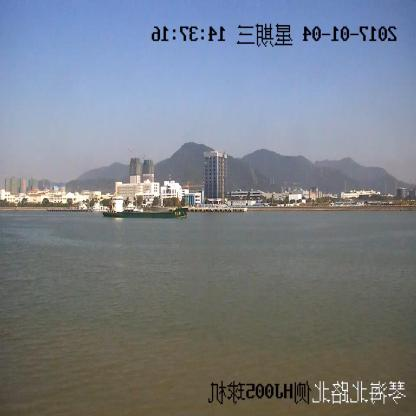Bulk Carrier: (103, 194, 187, 218)
